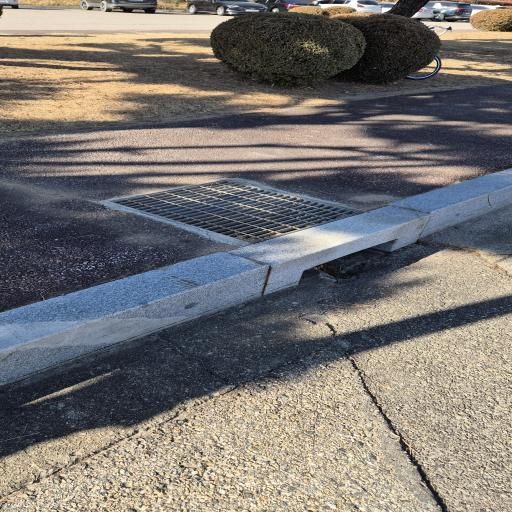drain: (110, 180, 360, 242)
